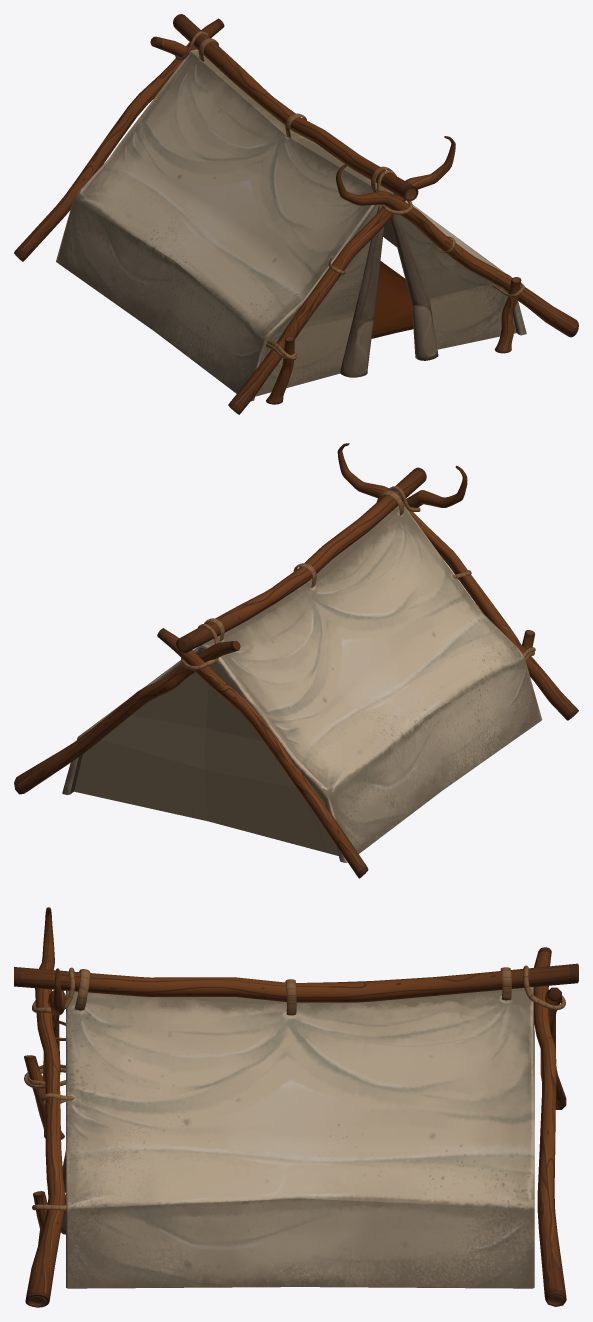
The model's file is tent2.glb.
The picture shows the model from 3 angles, top to bottom: view 1: azimuth 30°, elevation 25°; view 2: azimuth 150°, elevation 25°; view 3: azimuth 270°, elevation 25°; orthographic projection. The views are drawn at different scales.
Visible parts, largest first — view 1: Outer, Ends, L_Big_Supports, Opening, Top_support, R_Big_Supports, Camp_bed, Small_Supports, Ropes; view 2: Outer, Ends, L_Big_Supports, Top_support, R_Big_Supports, Ropes; view 3: Outer, R_Big_Supports, Top_support, Ropes, L_Big_Supports, Small_Supports.
Boxes of the visible parts, x1,y1,x2,y2 form: Outer: (56,49,526,401); Ends: (255,204,516,396); L_Big_Supports: (14,18,455,414); Opening: (340,204,438,377); Top_support: (173,14,418,201); R_Big_Supports: (150,36,578,337); Camp_bed: (371,261,413,338); Small_Supports: (266,277,521,404); Ropes: (175,31,524,360); Outer: (62,505,542,862); Ends: (74,650,338,855); L_Big_Supports: (157,443,578,878); Top_support: (176,467,426,652); R_Big_Supports: (14,465,467,794); Ropes: (181,486,535,670); Outer: (66,987,534,1288); R_Big_Supports: (25,907,566,1307); Top_support: (14,963,578,1002); Ropes: (24,965,565,1210); L_Big_Supports: (42,968,566,1109); Small_Supports: (24,1055,64,1245).
Bounding box in the file's own units: 4.85 × 2.97 × 5.62.
Materials: 9 (9 with a texture image).
